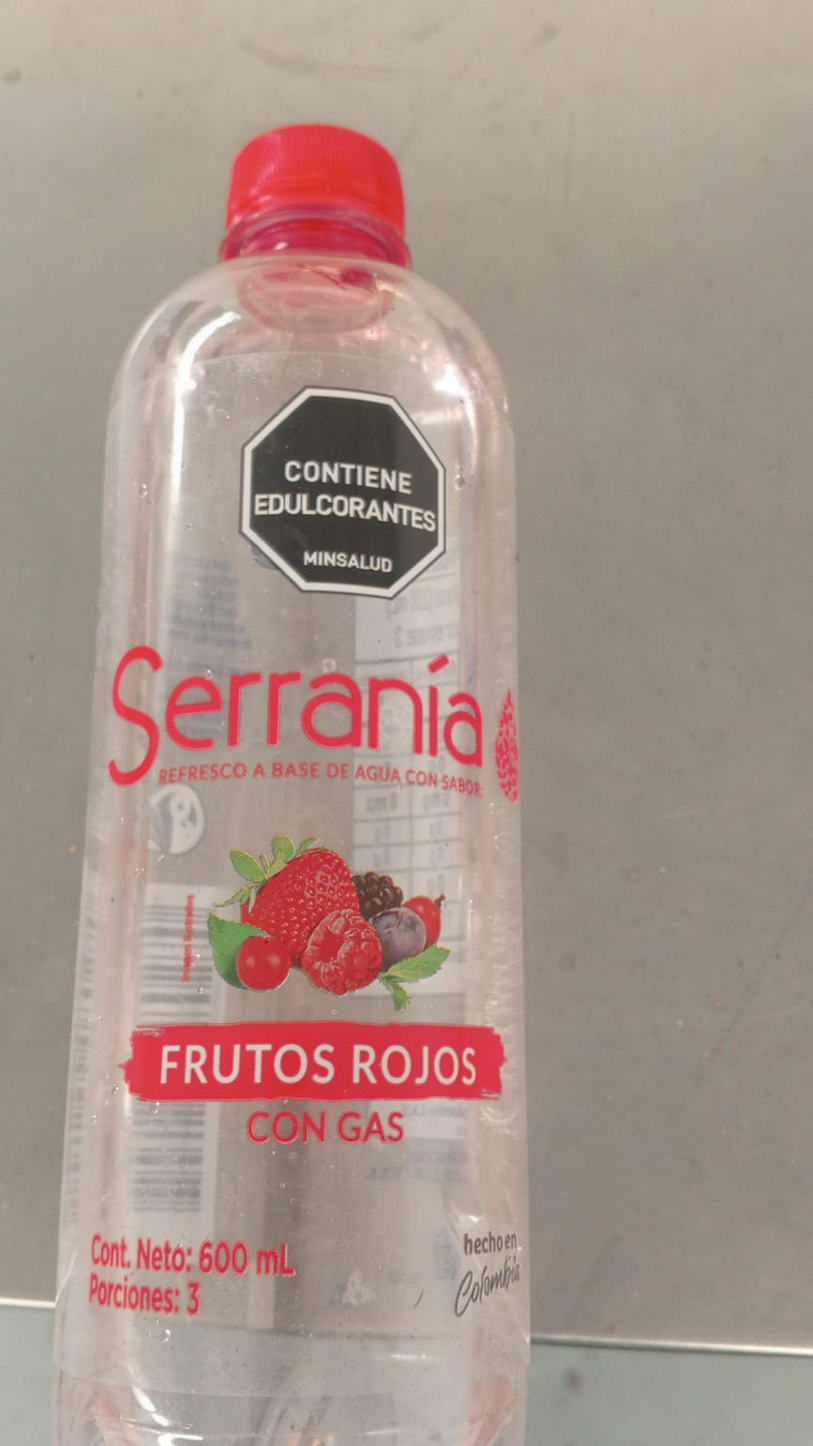Plastico: (52, 123, 530, 1446)
